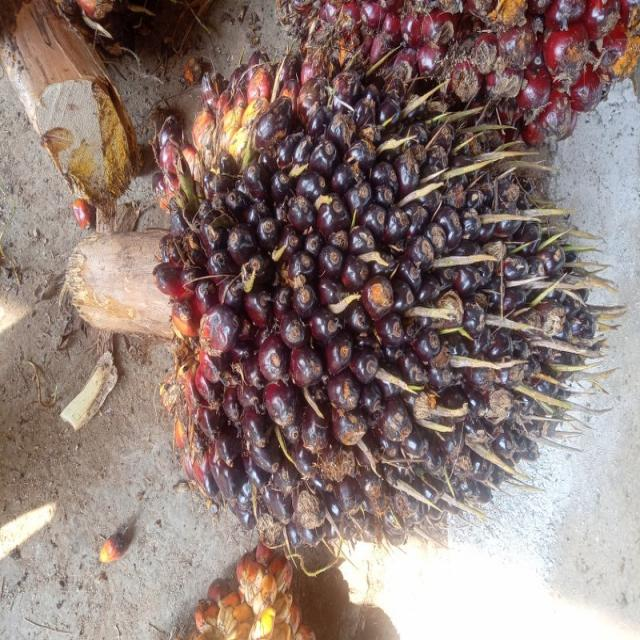fraksi 00: (147, 44, 605, 542)
